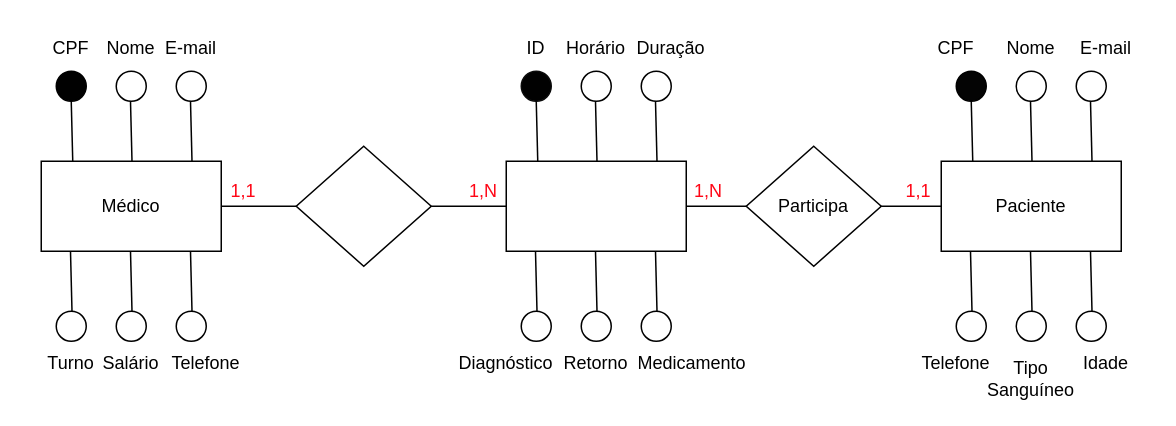
The diagram is 1176 pixels wide and 426 high, and some of its shapes have lost their labels. The shapes that lost their labels are listed below. From the top down, each one's centre as x and y in pixels, then its label:
At (x=363, y=205): "Realiza".
At (x=595, y=205): "Consulta".
